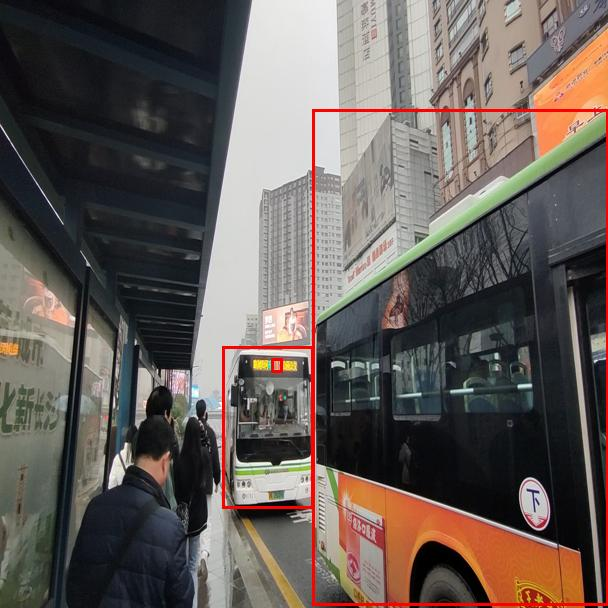bus: (312, 109, 608, 605), (222, 346, 313, 508)
screen: (271, 358, 282, 372)
